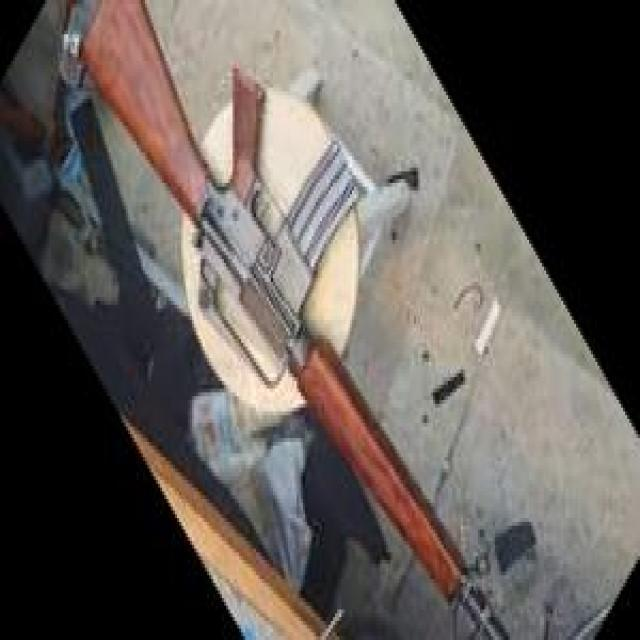Rifle: (58, 0, 512, 640)
